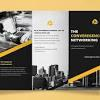paper: (0, 10, 100, 90)
